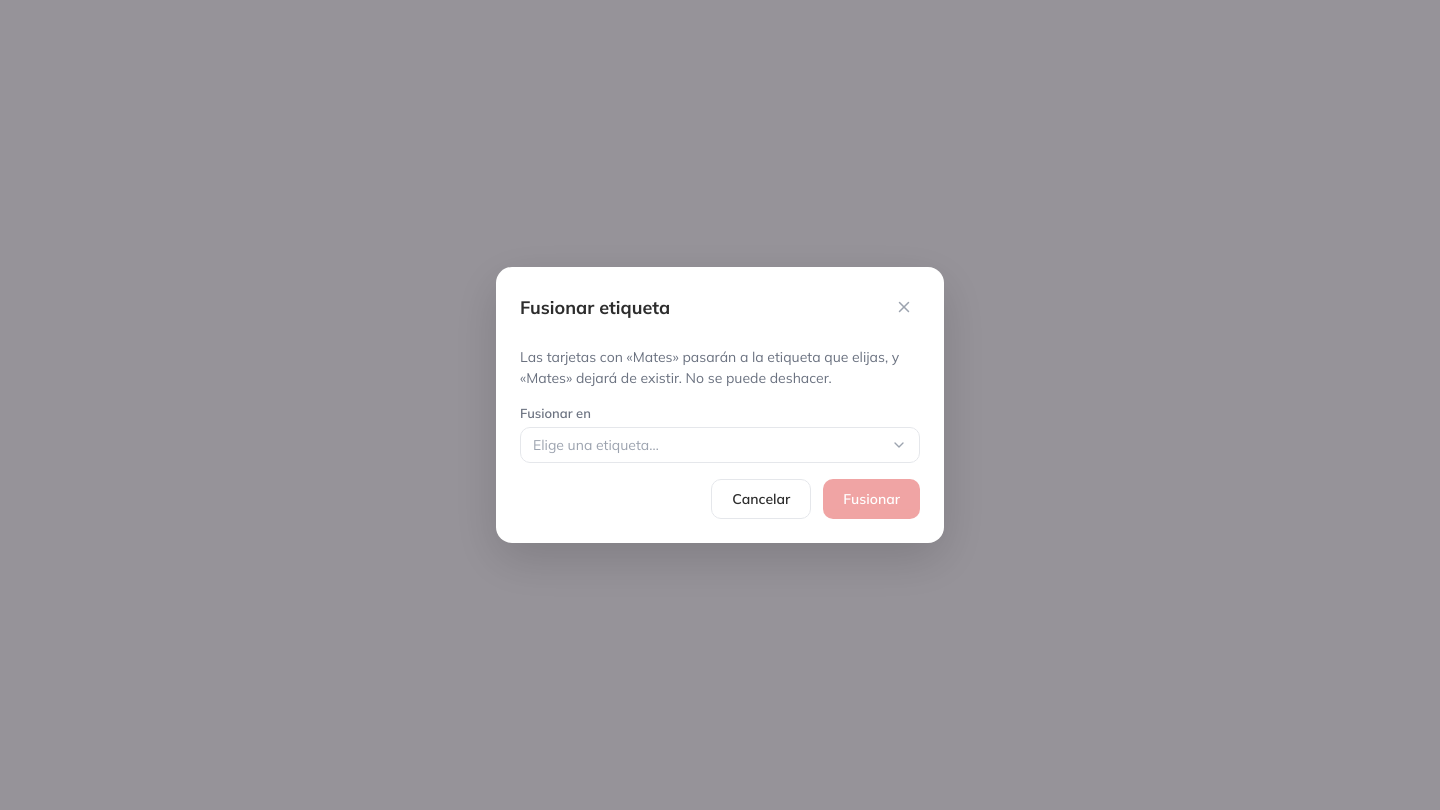
Scenario: MergeTagModal › no permite fusionar hasta elegir destino
Expected: the button "Fusionar" is disabled, [823,479,920,519]
Click the dropdown named "Fusionar en" at x=596, y=445, box [520,427,920,463]
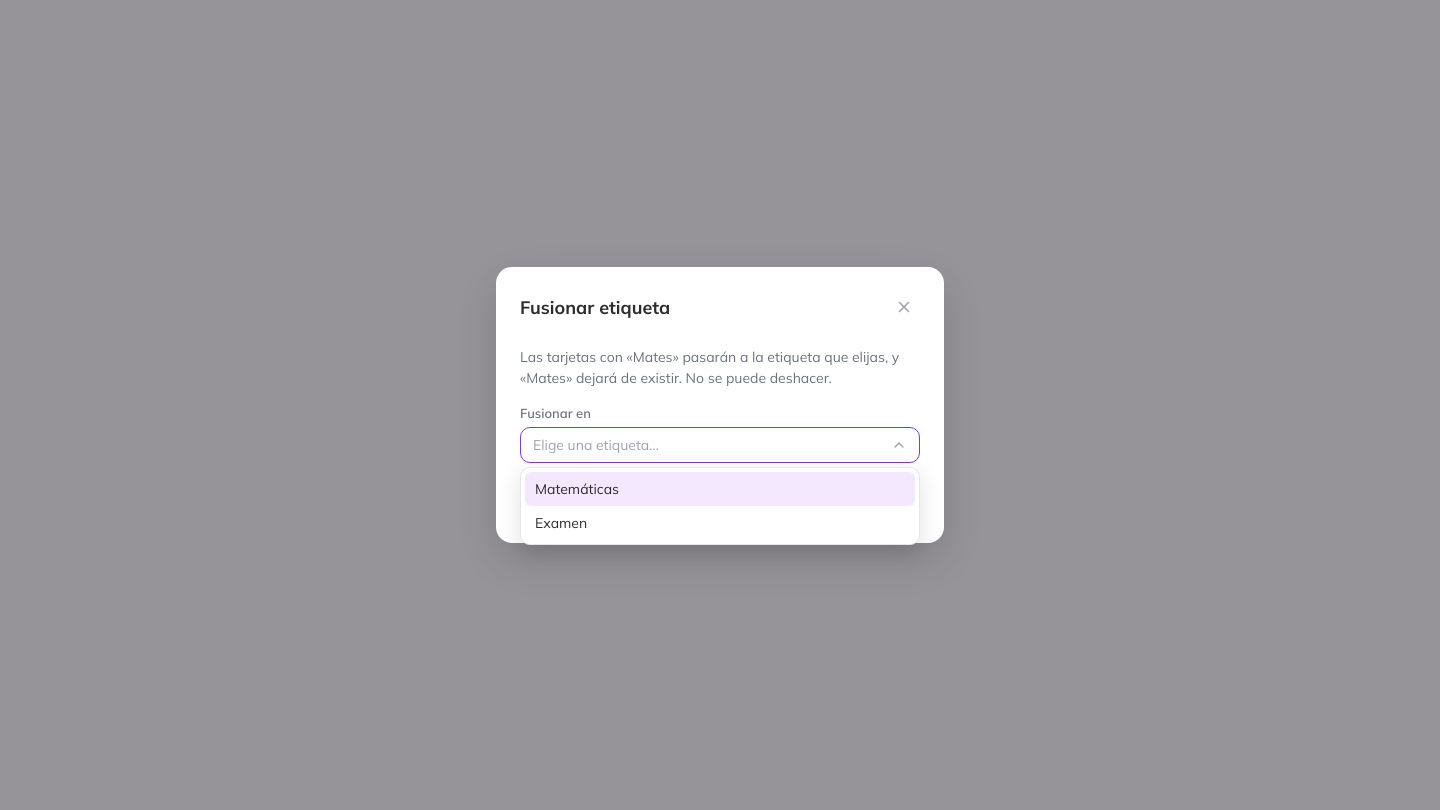
Click the option "Matemáticas" at x=577, y=489, box [525,472,915,506]
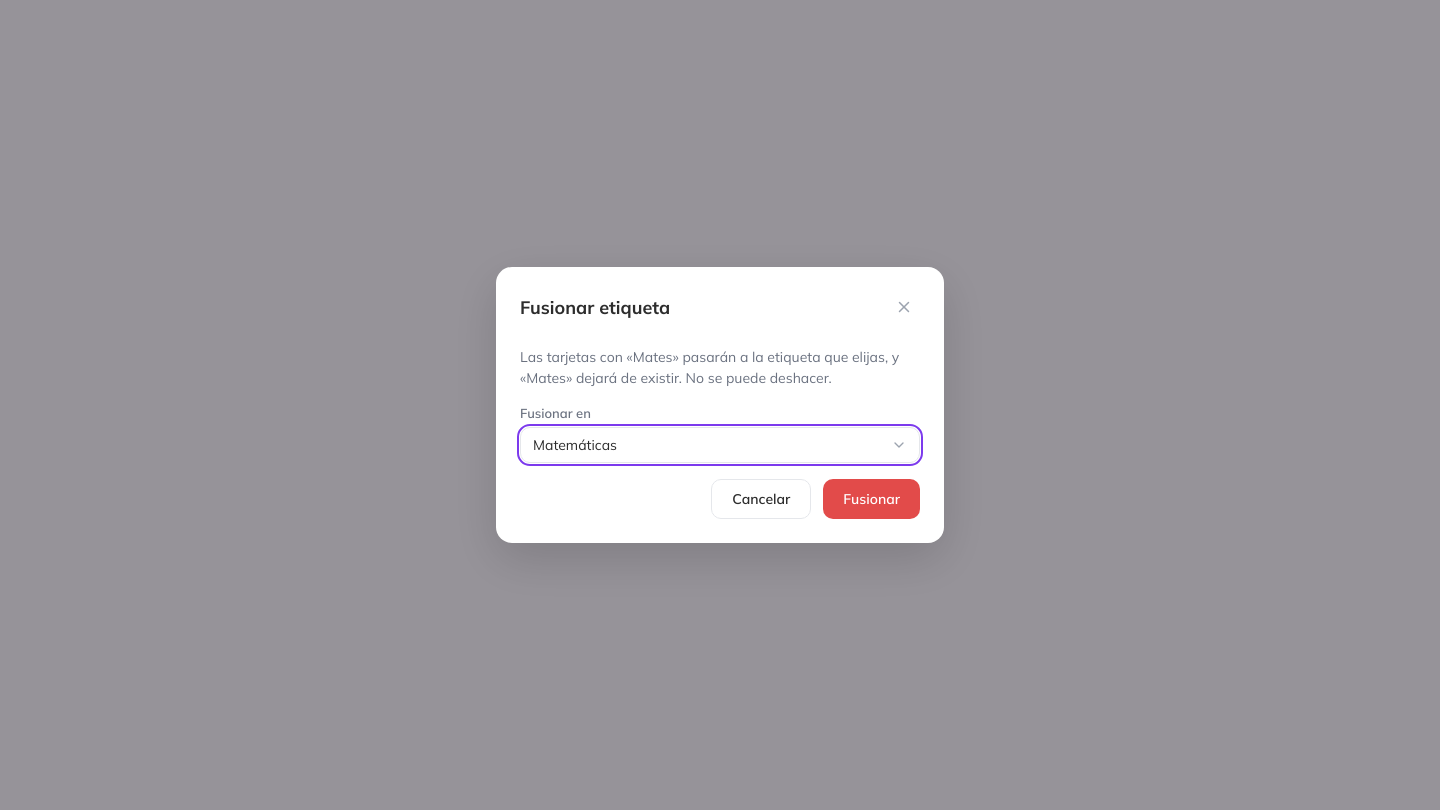
Now the button "Fusionar" is enabled, box [823,479,920,519]
